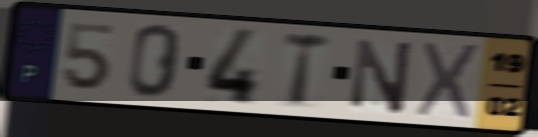0: (126, 22, 184, 101)
4: (203, 27, 263, 107)
5: (58, 19, 118, 92)
N: (348, 36, 416, 118)
T: (280, 29, 334, 111)
X: (412, 39, 483, 124)
